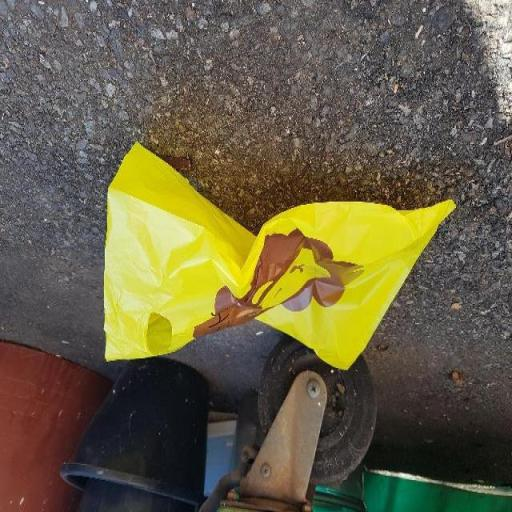plastic-bag: (98, 140, 454, 372)
